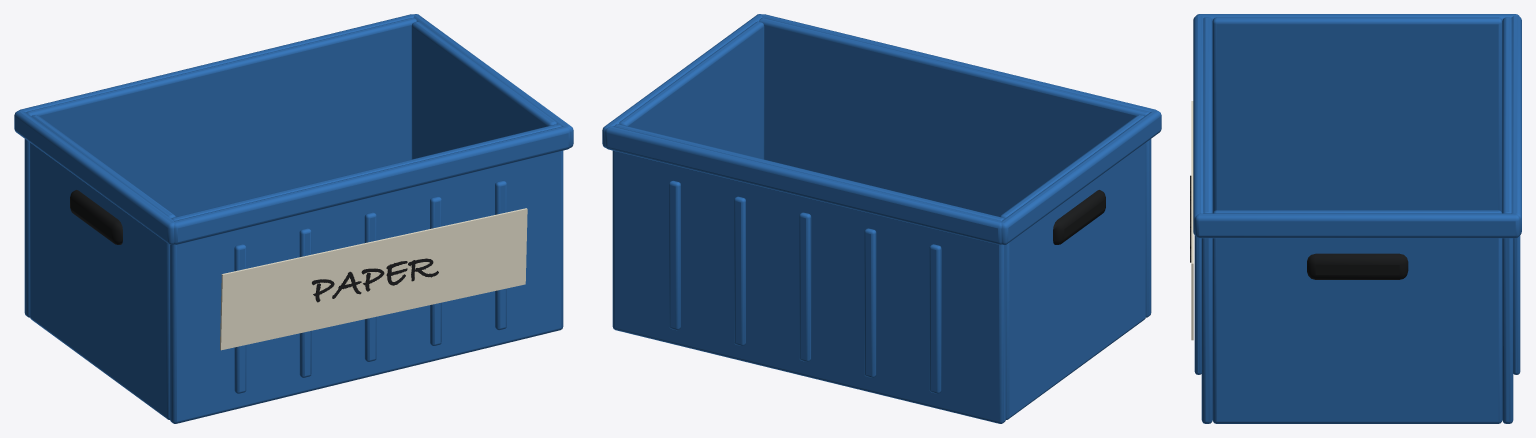
Rendered from crate_paper.fbx.
3 renders of one model, left to right at view 1: azimuth 30°, elevation 25°; view 2: azimuth 150°, elevation 25°; view 3: azimuth 270°, elevation 25°, orthographic. The views are drawn at different scales.
Visible parts, largest first — view 1: crate_paper; view 2: crate_paper; view 3: crate_paper.
Part boxes in pixels (x1,y1,x2,y2): crate_paper: [14, 14, 573, 423]; crate_paper: [602, 14, 1161, 423]; crate_paper: [1190, 14, 1521, 423].
Bounding box in the file's own units: 0.622 × 0.3 × 0.426.
